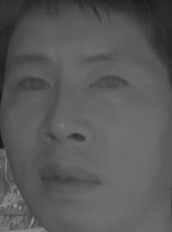eye: (88, 72, 131, 96), (14, 72, 53, 97)
mouth: (36, 161, 102, 200)
